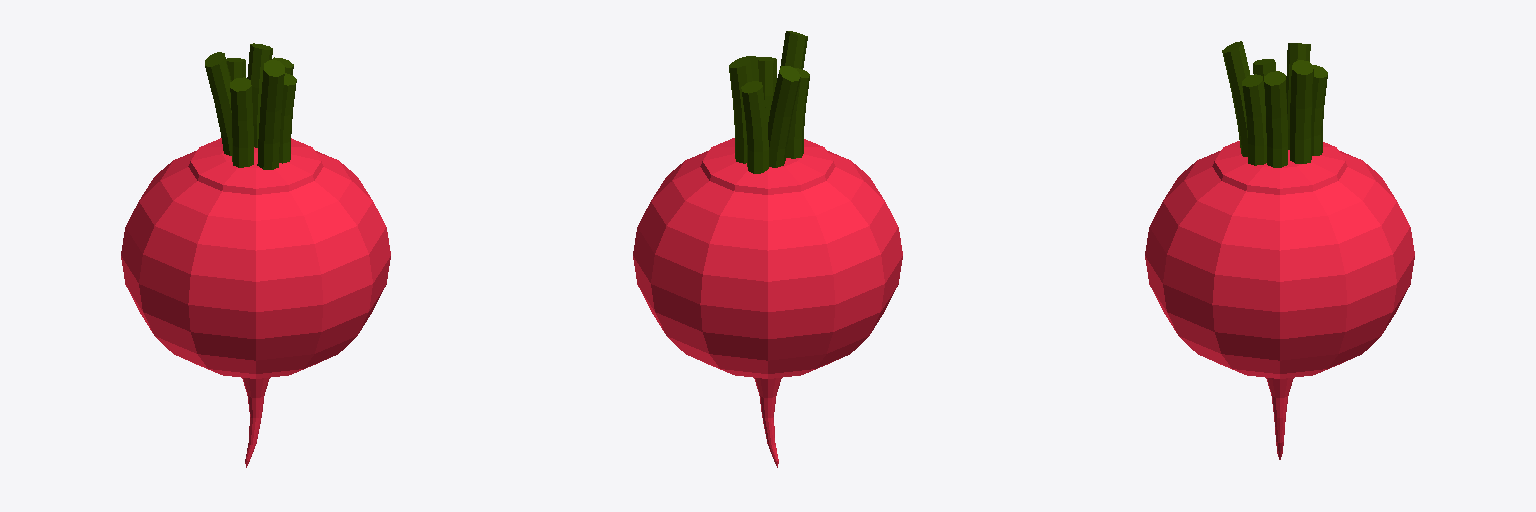
The model's file is turnip.obj.
3 views of the same model, side by side, from view 1: azimuth 30°, elevation 25°; view 2: azimuth 150°, elevation 25°; view 3: azimuth 270°, elevation 25° (orthographic).
Parts seen in each view (by area): view 1: Object_5_Object_1.001, Object_4_Object_0.001; view 2: Object_5_Object_1.001, Object_4_Object_0.001; view 3: Object_5_Object_1.001, Object_4_Object_0.001.
Part boxes in pixels (left/top/right/bottom): Object_5_Object_1.001: left=121, top=138, right=390, bottom=467; Object_4_Object_0.001: left=205, top=43, right=296, bottom=169; Object_5_Object_1.001: left=633, top=138, right=902, bottom=467; Object_4_Object_0.001: left=729, top=31, right=809, bottom=173; Object_5_Object_1.001: left=1145, top=141, right=1414, bottom=459; Object_4_Object_0.001: left=1222, top=41, right=1327, bottom=167.
Size of the model in its own units: 104 by 179 by 104.